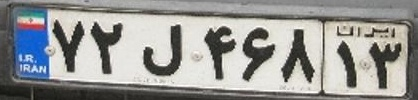character: (132, 17, 190, 80), (277, 23, 319, 89), (87, 12, 128, 78), (197, 21, 238, 87), (239, 21, 278, 87), (50, 13, 88, 77), (365, 37, 404, 93), (329, 37, 360, 91)
